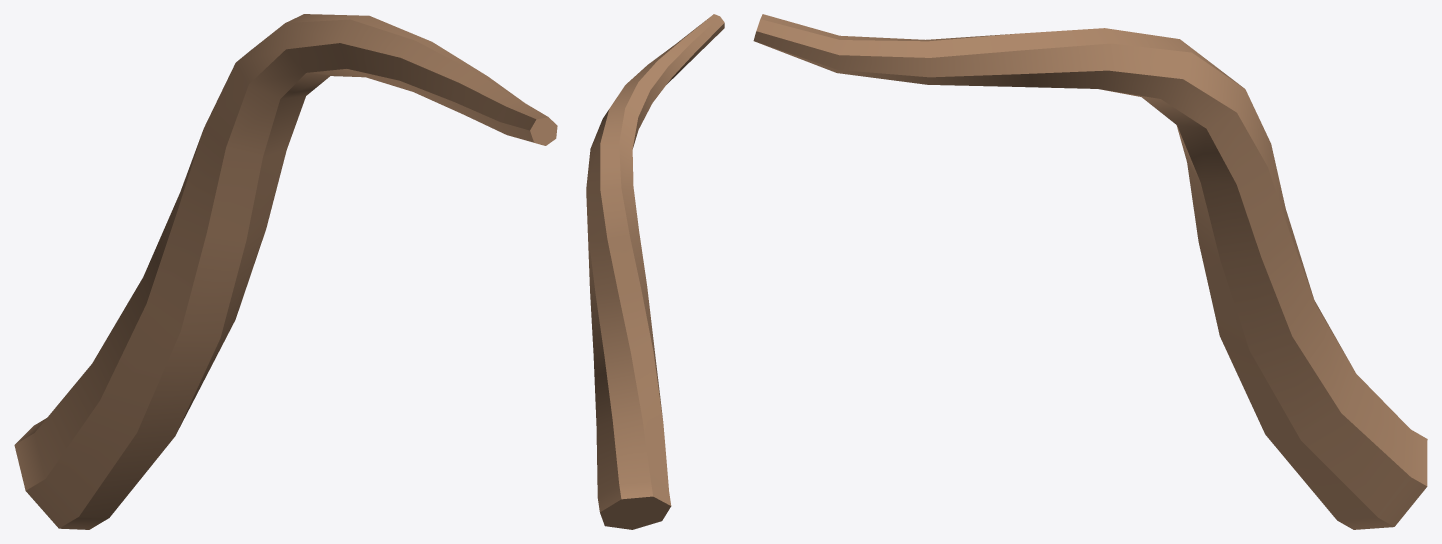
File: Root end 3.fbx
3 views of the same model, side by side, from view 1: azimuth 30°, elevation 25°; view 2: azimuth 150°, elevation 25°; view 3: azimuth 270°, elevation 25° (orthographic). The views are drawn at different scales.
Parts seen in each view (by area): view 1: pCylinder8; view 2: pCylinder8; view 3: pCylinder8.
Part boxes in pixels (bbox=[...]): pCylinder8: bbox=[14, 14, 557, 529]; pCylinder8: bbox=[586, 14, 724, 529]; pCylinder8: bbox=[753, 14, 1427, 529].
Bounding box in the file's own units: 1.66 × 3.7 × 3.82.
